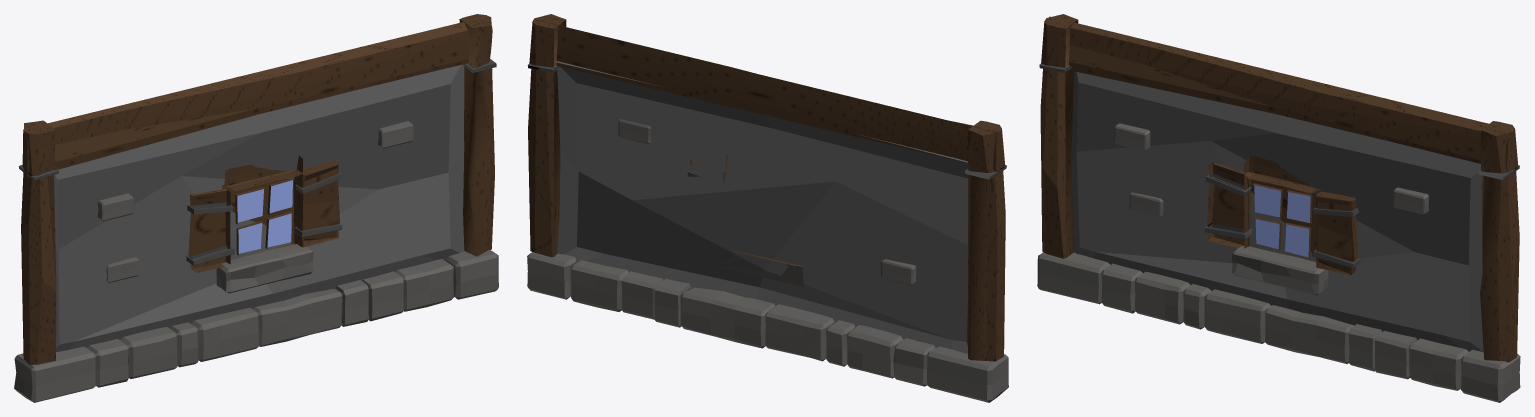
The model's file is windowed_stone_wall.glb.
3 renders of one model, left to right at view 1: azimuth 30°, elevation 25°; view 2: azimuth 150°, elevation 25°; view 3: azimuth 330°, elevation 25°, orthographic.
Visible parts, largest first — view 1: windowed_stone_wall; view 2: windowed_stone_wall; view 3: windowed_stone_wall.
Boxes of the visible parts, bbox=[...] form: windowed_stone_wall: bbox=[14, 14, 498, 402]; windowed_stone_wall: bbox=[527, 14, 1008, 402]; windowed_stone_wall: bbox=[1037, 14, 1520, 402].
Bounding box in the file's own units: 12.44 × 6.77 × 1.04.
Materials: 5 (5 with a texture image).
